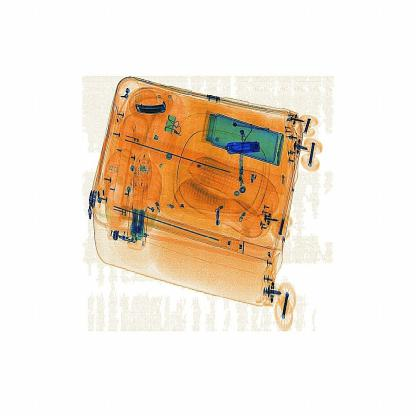knife: (221, 128, 265, 162)
